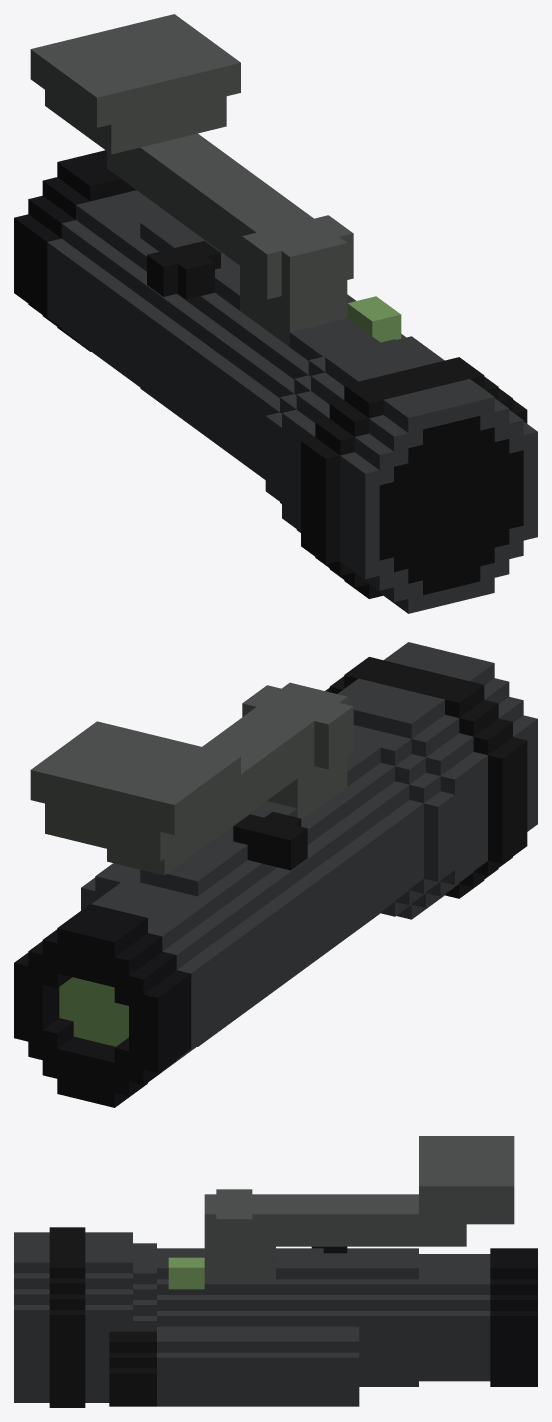
The model's file is military_nvg_on.glb.
3 views of the same model, one above another, from view 1: azimuth 30°, elevation 25°; view 2: azimuth 150°, elevation 25°; view 3: azimuth 270°, elevation 25° (orthographic). The views are drawn at different scales.
Visible parts, largest first — view 1: military_nvg_on:compound; view 2: military_nvg_on:compound; view 3: military_nvg_on:compound.
Boxes of the visible parts, left/top/right/bottom form: military_nvg_on:compound: left=14, top=14, right=537, bottom=613; military_nvg_on:compound: left=14, top=642, right=537, bottom=1107; military_nvg_on:compound: left=14, top=1136, right=537, bottom=1407.
Size of the model in its own units: 0.068 by 0.084 by 0.176.
